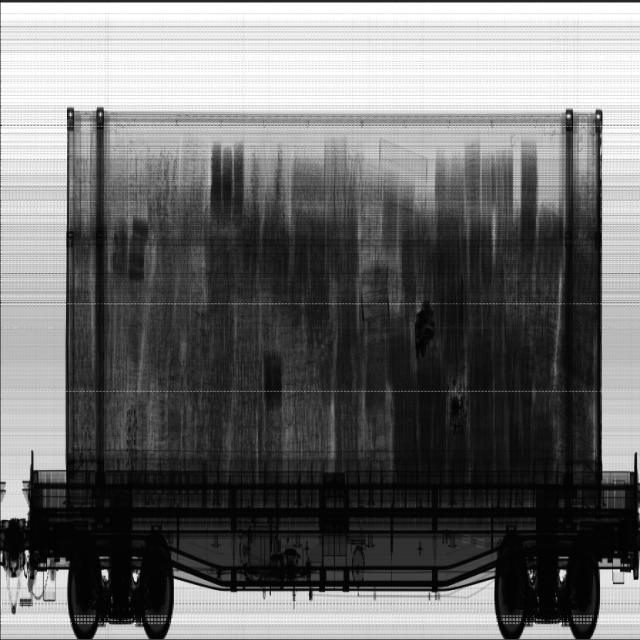shoes: (71, 151, 213, 458)
